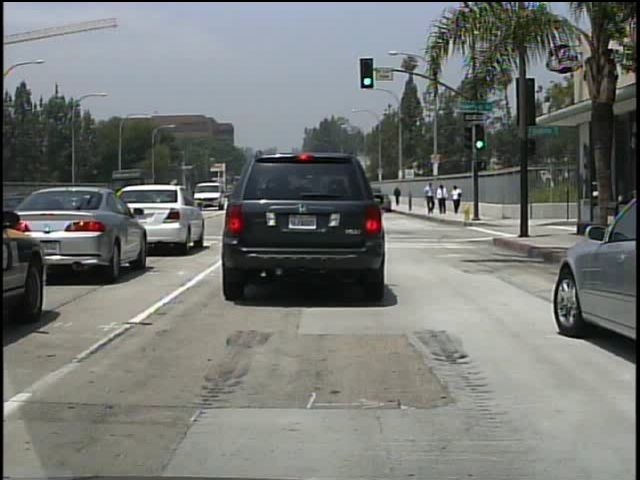person: (425, 180, 438, 216), (451, 183, 464, 215), (438, 183, 451, 215), (392, 186, 402, 207)
